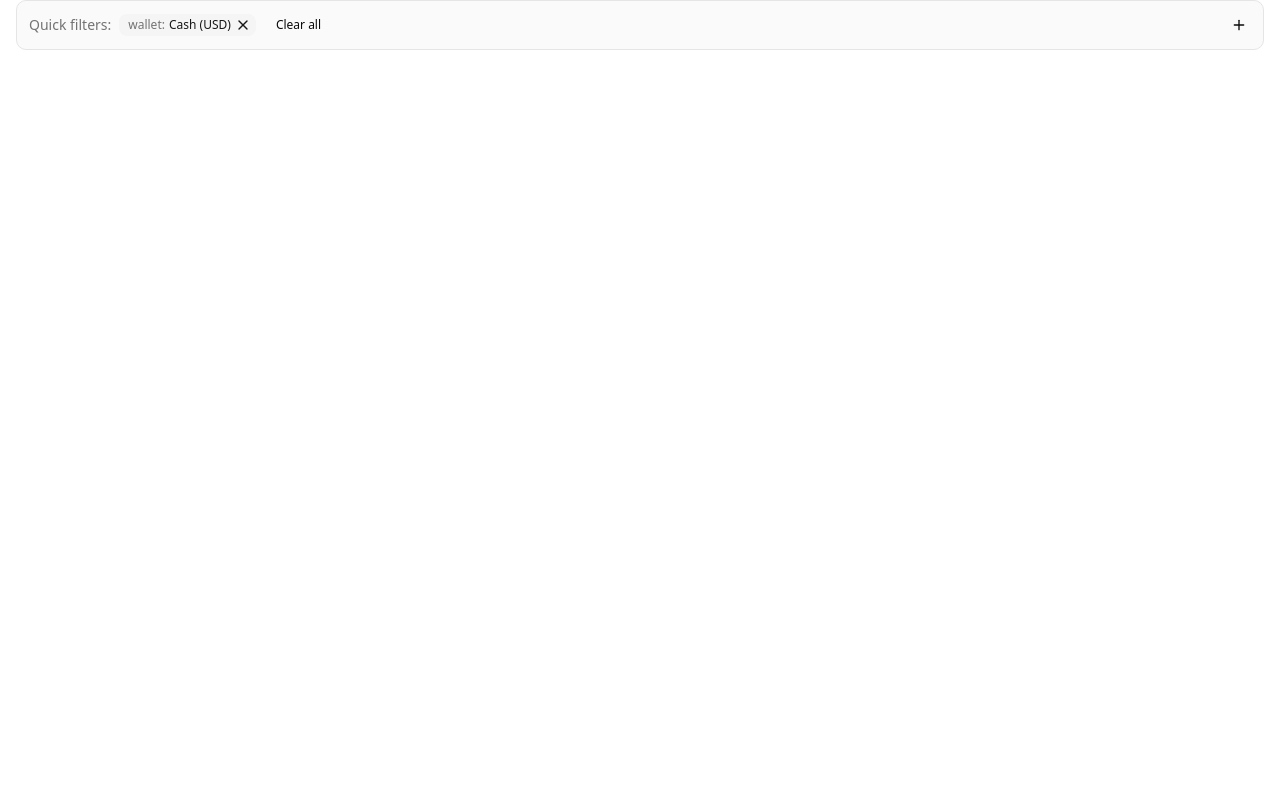
QuickFilterChips › offers only the types that are not filtered yet
The image size is (1280, 800).
Click the button named "Add filter" at (1239, 25), box 1227,13 -> 1251,37
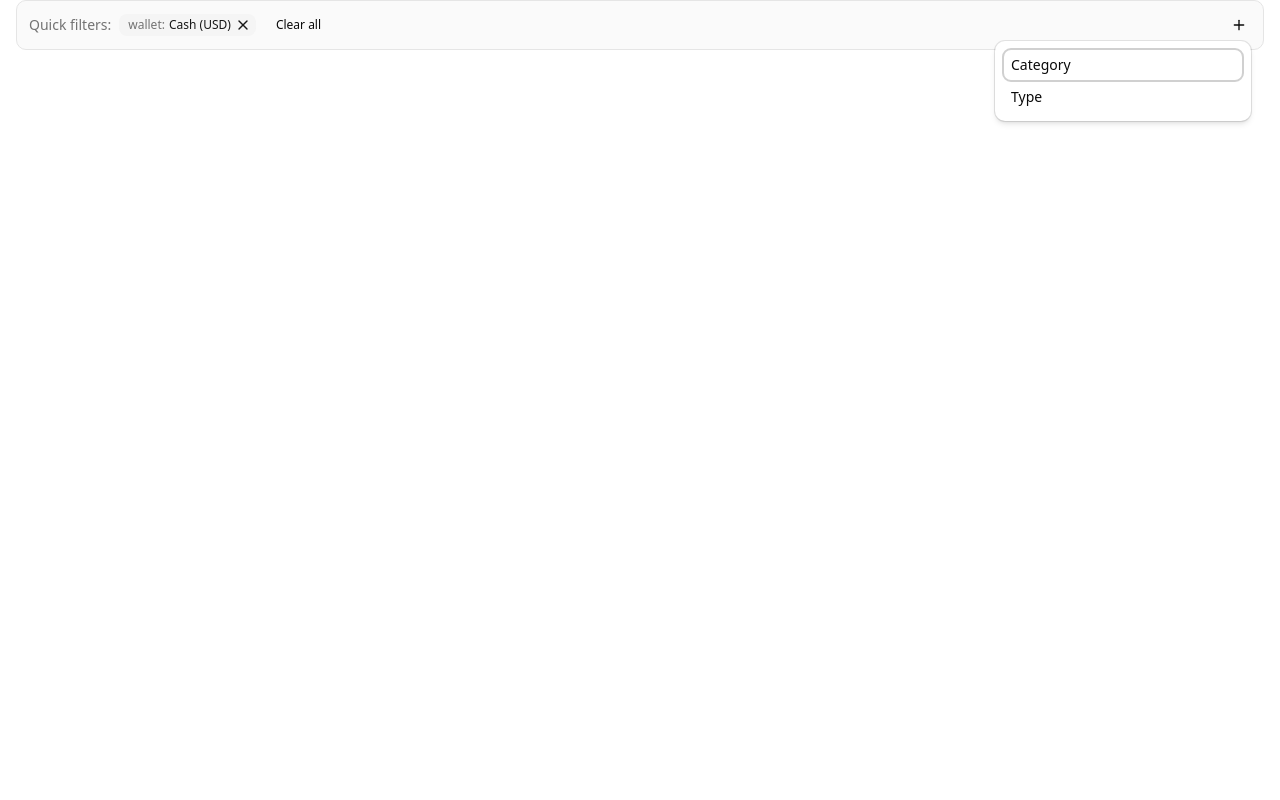
Result: the button "category" is shown at 1003,49 -> 1243,81
Result: the button "type" is shown at 1003,81 -> 1243,113
